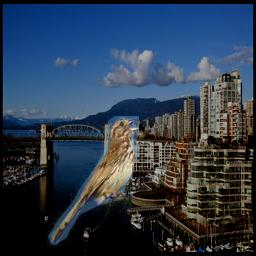Sparrow: (47, 116, 139, 246)
